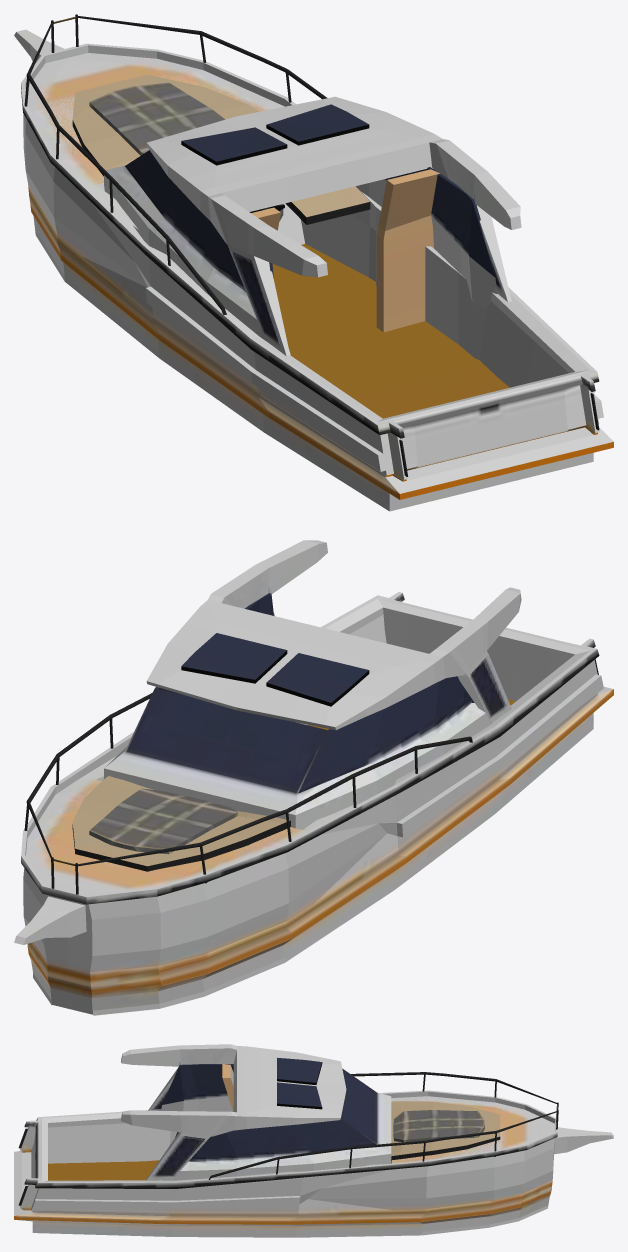
The model's file is yacht.glb.
The picture shows the model from 3 angles, top to bottom: view 1: azimuth 30°, elevation 25°; view 2: azimuth 150°, elevation 25°; view 3: azimuth 270°, elevation 25°; orthographic projection. The views are drawn at different scales.
Parts seen in each view (by area): view 1: kit0, kit1; view 2: kit0, kit1; view 3: kit0, kit1.
Boxes of the visible parts, x1,y1,x2,y2 form: kit0: (14, 14, 613, 511); kit1: (18, 17, 613, 510); kit0: (14, 540, 613, 1015); kit1: (14, 599, 613, 1013); kit0: (14, 1044, 613, 1237); kit1: (14, 1050, 613, 1237).
Bounding box in the file's own units: 4.25 × 3.15 × 14.
Materials: 1 (1 with a texture image).
